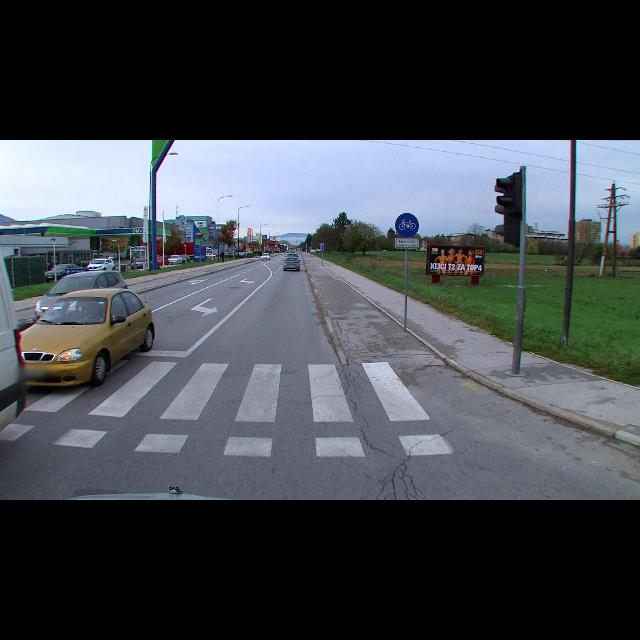Rectangle: (396, 240, 419, 248)
Round: (396, 212, 418, 238)
